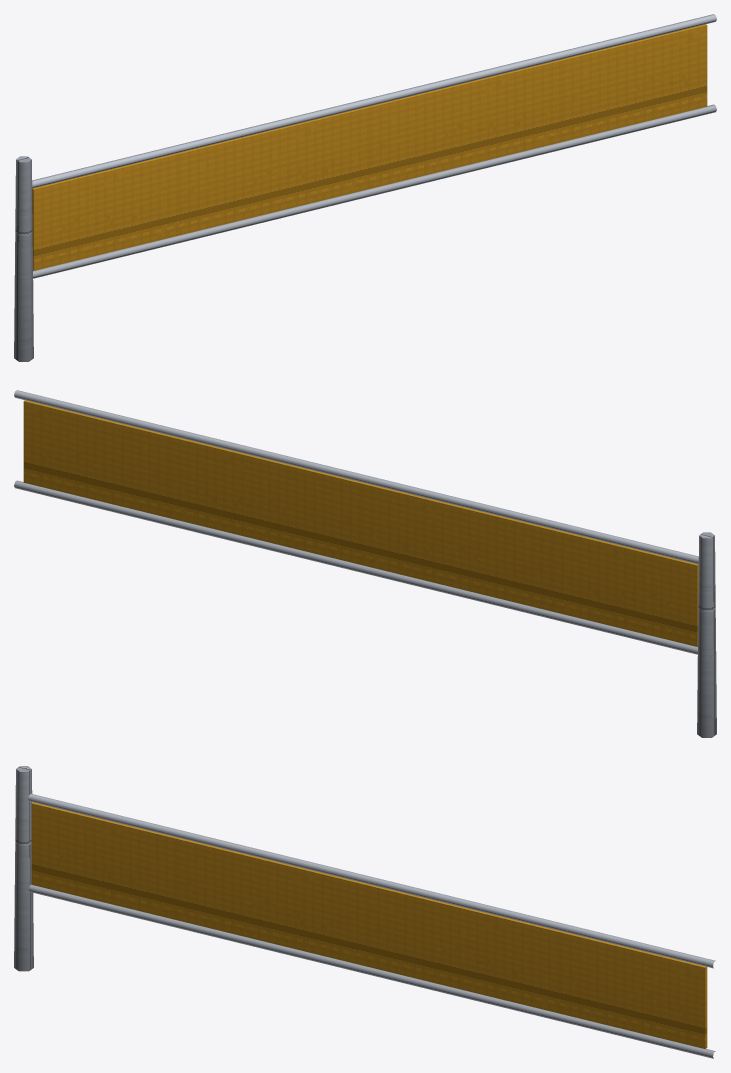
The model's file is cerca_de_grade.glb.
3 views of the same model, one above another, from view 1: azimuth 30°, elevation 25°; view 2: azimuth 150°, elevation 25°; view 3: azimuth 330°, elevation 25° (orthographic).
Parts seen in each view (by area): view 1: cerca_de_grade, cerca_de_grade_metal; view 2: cerca_de_grade, cerca_de_grade_metal; view 3: cerca_de_grade, cerca_de_grade_metal.
Part boxes in pixels (left/top/right/bottom): cerca_de_grade: left=32, top=14, right=716, bottom=278; cerca_de_grade_metal: left=14, top=156, right=33, bottom=361; cerca_de_grade: left=14, top=390, right=698, bottom=654; cerca_de_grade_metal: left=697, top=532, right=716, bottom=737; cerca_de_grade: left=28, top=793, right=715, bottom=1058; cerca_de_grade_metal: left=14, top=766, right=33, bottom=971.
Bounding box in the file's own units: 4.04 × 1.1 × 0.1.
Materials: 3 (2 with a texture image).
